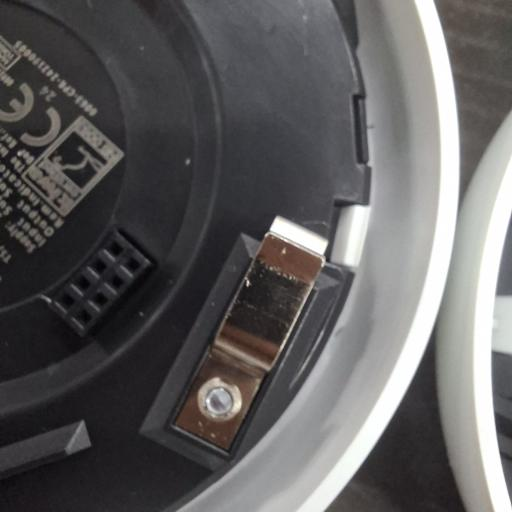yayli: (171, 217, 327, 451)
